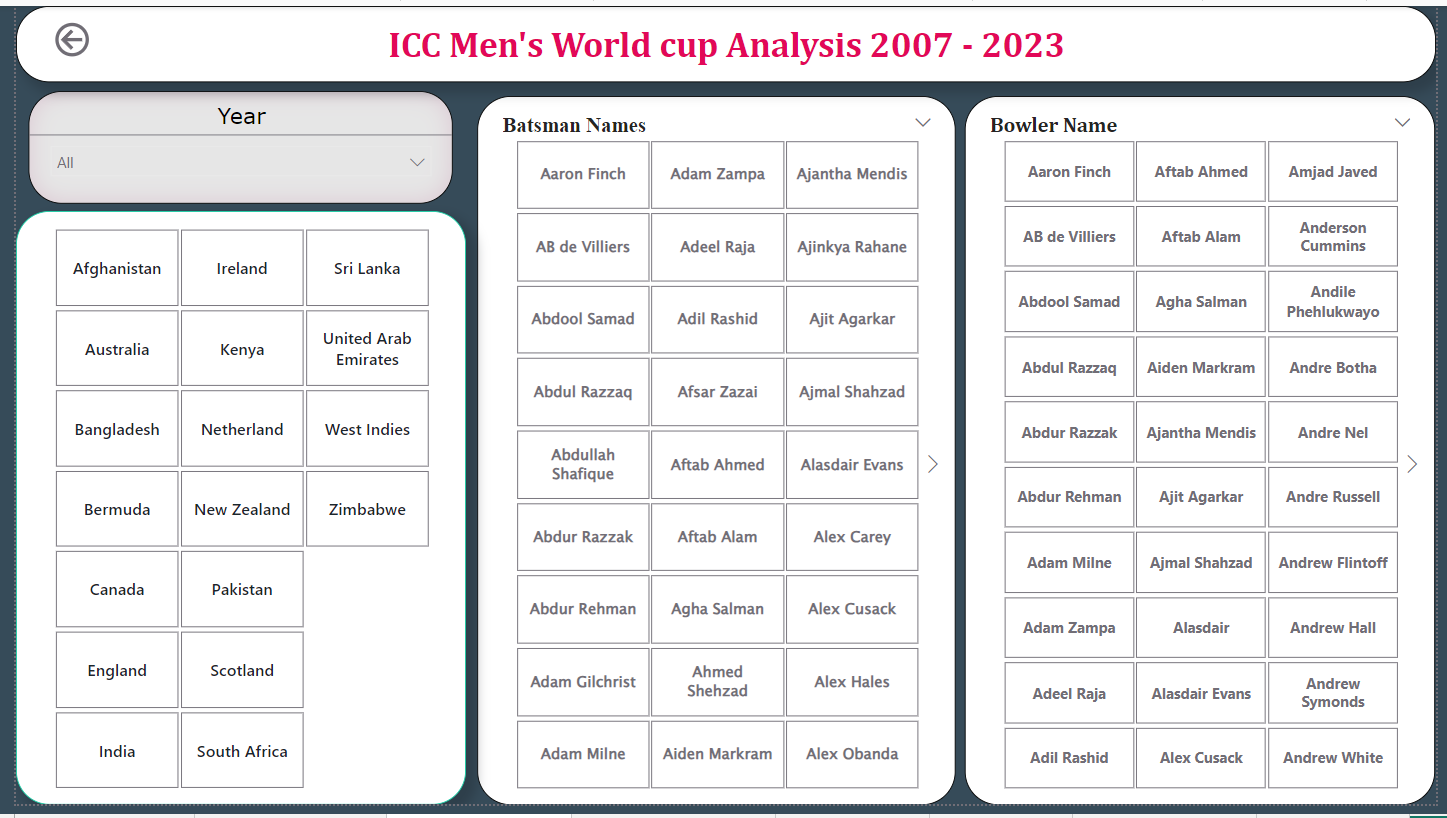

The page's visual inventory and layout, read from the dashboard file:
{"tool":"powerbi","page":{"name":"Teams And Playeres","canvas":[1280,720],"ordinal":2},"visuals":[{"type":"slicer","title":"Year","fields":{"Values":["Teams.Year"]},"box":[11,77,382.6,101.5],"z":0},{"type":"slicer","fields":{"Values":["Batting.Batsman Names"]},"box":[415.6,80.7,431.5,639.3],"z":1000},{"type":"slicer","fields":{"Values":["Bowling.Bowler Name"]},"box":[855.7,80.7,424.2,639.3],"z":2000},{"type":"slicer","fields":{"Values":["Teams.Teams"]},"box":[0,184.6,405.8,535.4],"z":3000},{"type":"textbox","box":[0,0,1279.9,68.5],"z":5000},{"type":"actionButton","box":[30.6,9.8,100.2,40.3],"z":5500}]}

Visuals, with their boxes in screenshot pixels (x1, y1, x2, y2), scaled from the page's 1280x720 canvas onto the 1447x818 screenshot:
"Year" slicer: box(12, 87, 445, 203)
slicer - Batting.Batsman Names: box(470, 92, 958, 817)
slicer - Bowling.Bowler Name: box(967, 92, 1446, 817)
slicer - Teams.Teams: box(0, 210, 459, 817)
textbox: box(0, 0, 1446, 78)
actionButton: box(35, 11, 148, 57)
